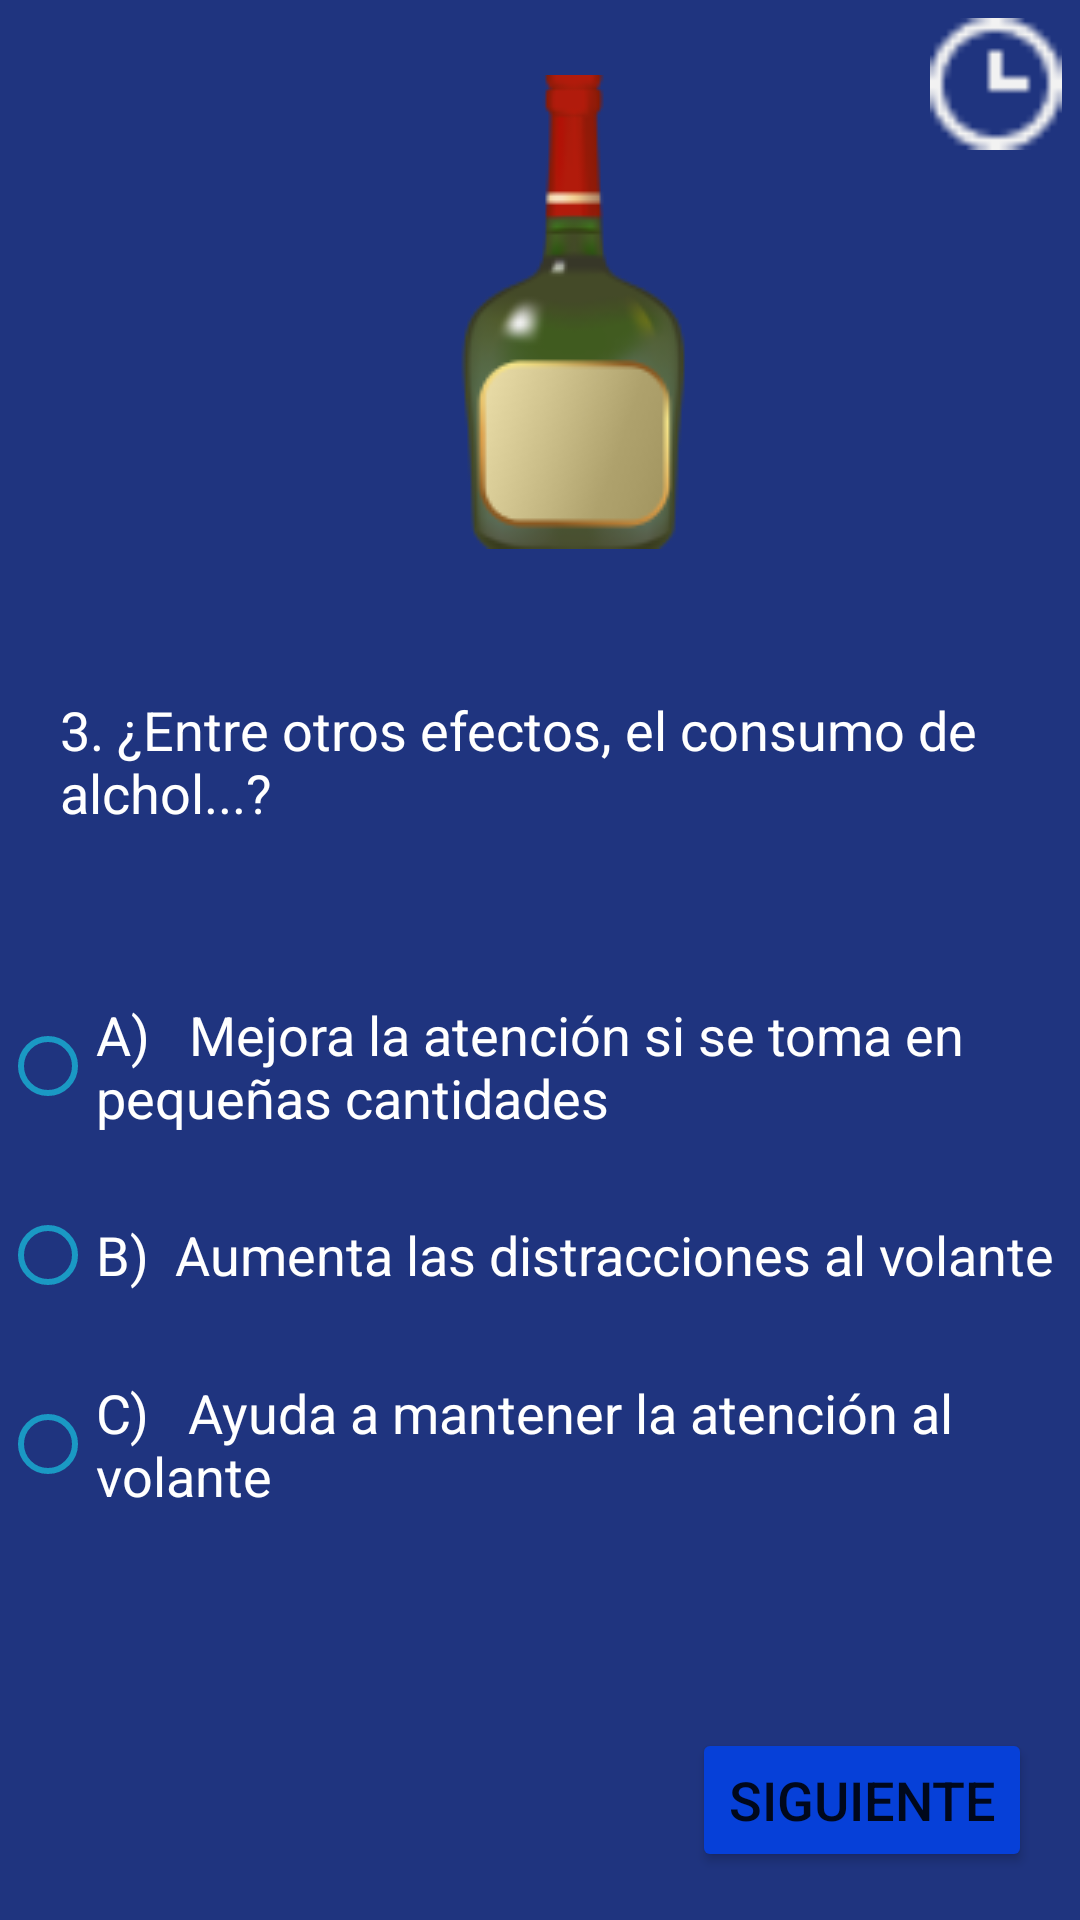

Screen size 1080w x 1920h. Icon name, then its center in pixels as [x,y]:
clock: [996,84]
